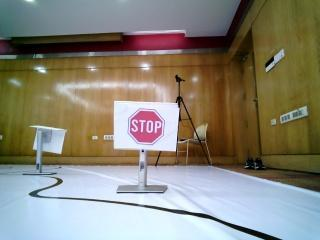stop: (112, 102, 176, 150)
